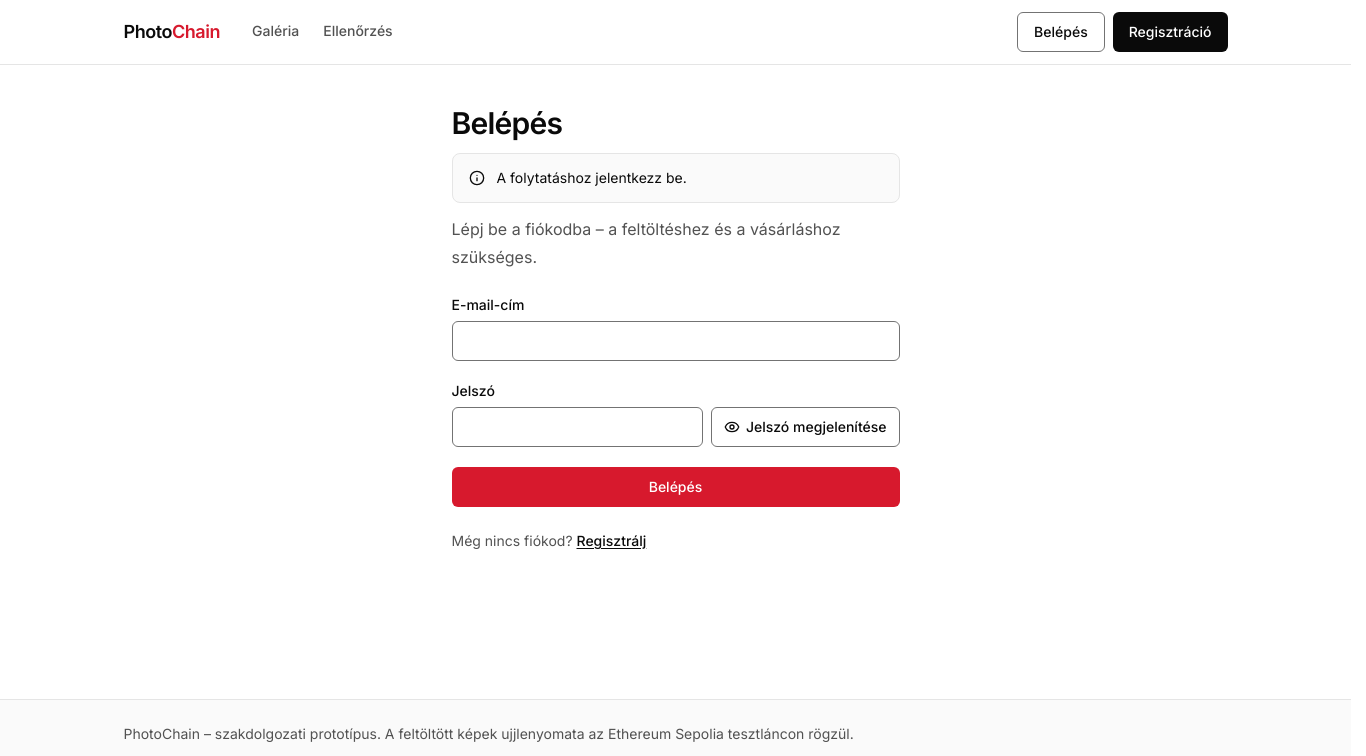
Test case: a fejléc fiókrésze › a belépő oldalon a fejléc Regisztráció hivatkozása is megtartja, honnan jött a felhasználó
The image size is (1366, 756).
expect the heading "Belépés" is shown: met, box [452,105,562,141]
Click the link "Regisztráció": coordinates (1170, 32) [1113,12,1228,52]
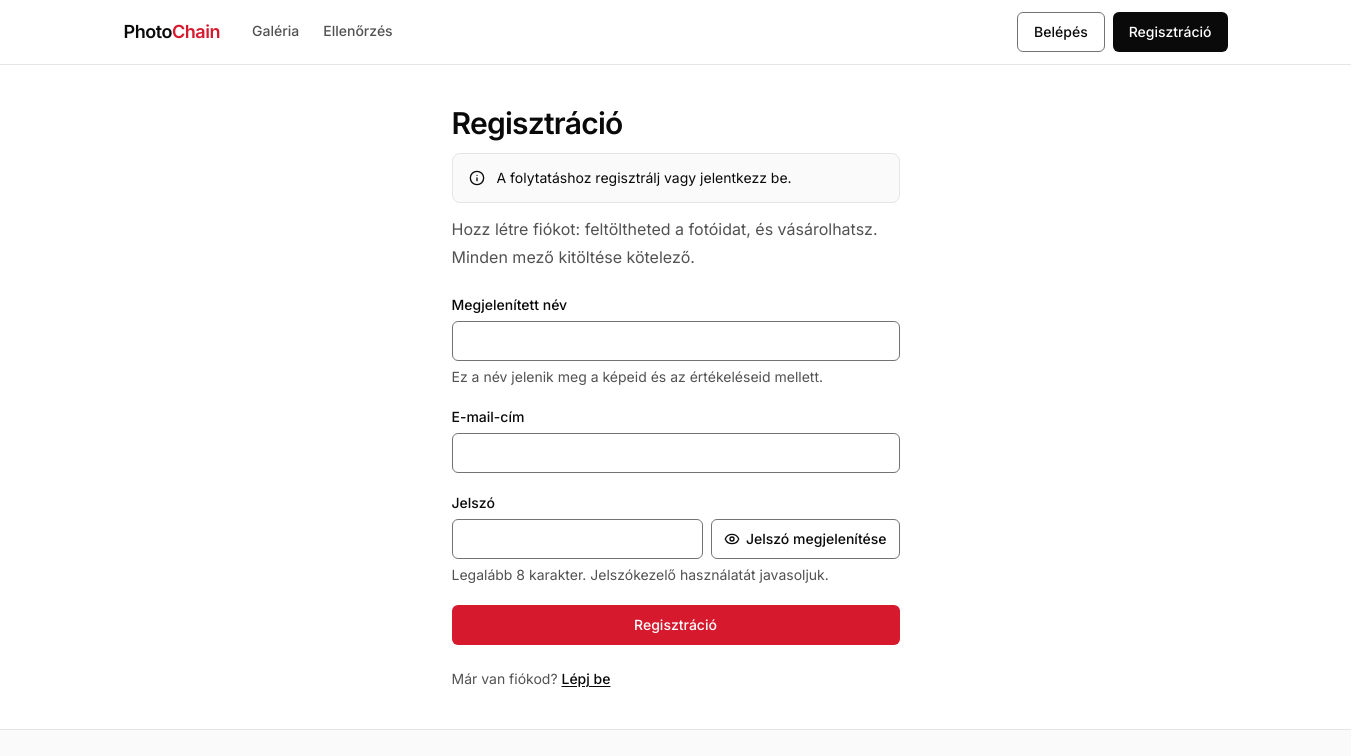
expect the heading "Regisztráció" is shown: met, box [452,105,622,141]
